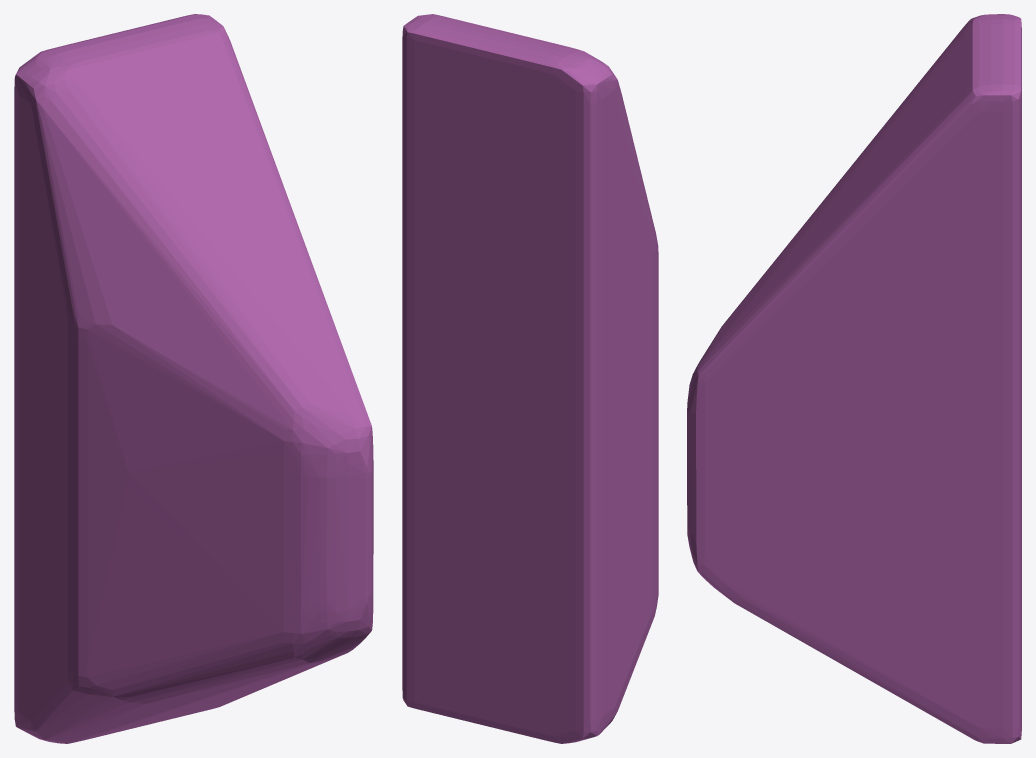
The model's file is left_forearm_1_part_7.obj.
3 views of the same model, side by side, from view 1: azimuth 30°, elevation 25°; view 2: azimuth 150°, elevation 25°; view 3: azimuth 270°, elevation 25° (orthographic). The views are drawn at different scales.
Bounding box in the file's own units: 35.91 × 119 × 55.29.
